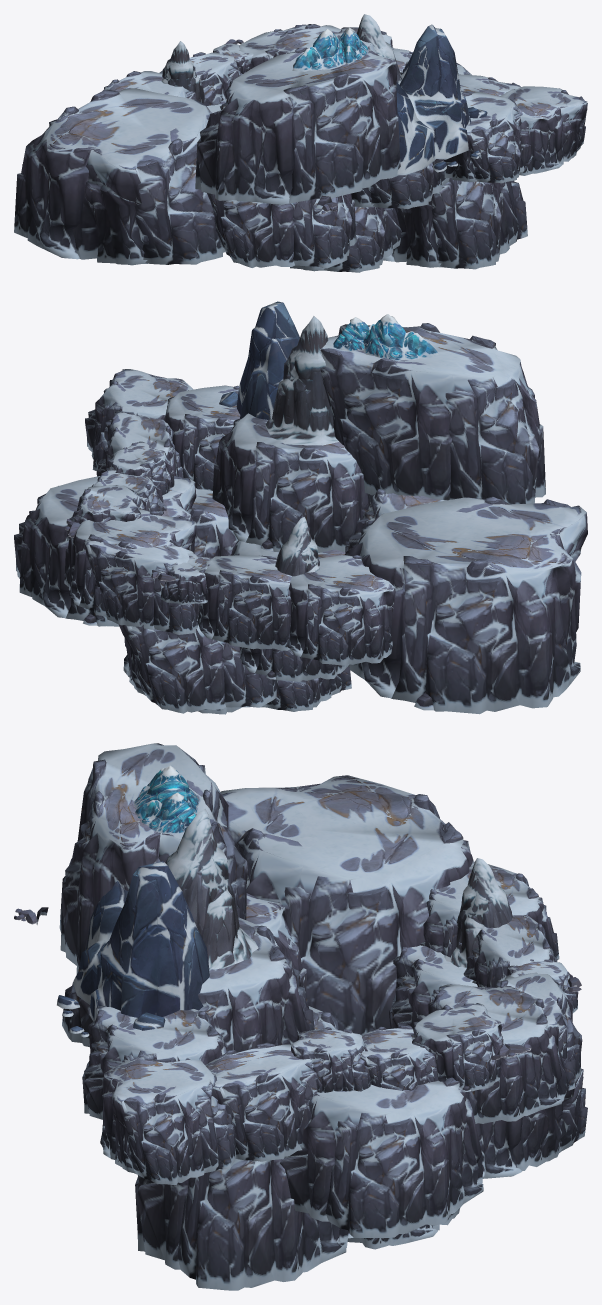
File: yanshi17_1.fbx
3 views of the same model, one above another, from view 1: azimuth 30°, elevation 25°; view 2: azimuth 150°, elevation 25°; view 3: azimuth 270°, elevation 25° (orthographic). The views are drawn at different scales.
Visible parts, largest first — view 1: yanshi17_1; view 2: yanshi17_1; view 3: yanshi17_1.
Boxes of the visible parts, box(x1,y1,x2,y2) form: yanshi17_1: box(14, 14, 587, 272); yanshi17_1: box(14, 301, 587, 714); yanshi17_1: box(14, 743, 587, 1290).
Bounding box in the file's own units: 4615 × 2534 × 3385.
